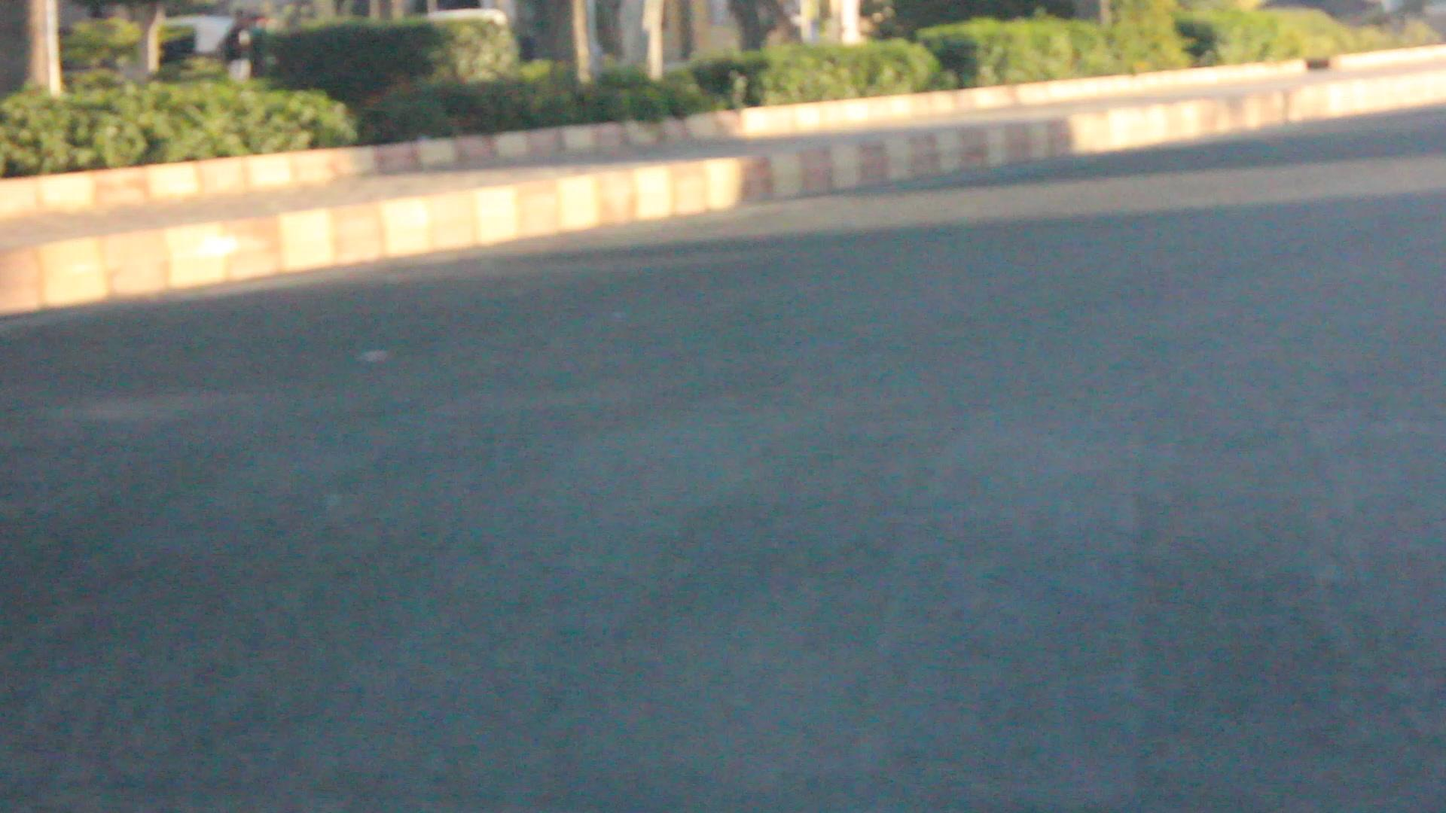Bump: (8, 373, 1446, 757)
